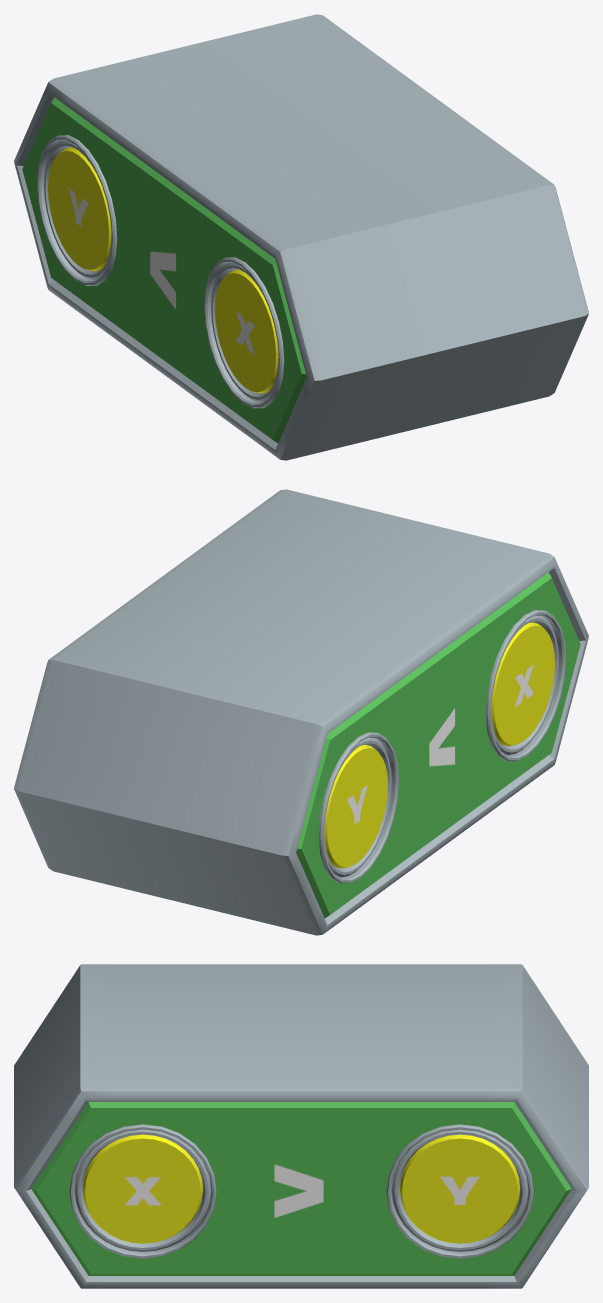
Rendered from ConditionalGreater_IN_CONTROL.fbx.
3 renders of one model, top to bottom at view 1: azimuth 30°, elevation 25°; view 2: azimuth 150°, elevation 25°; view 3: azimuth 270°, elevation 25°, orthographic. The views are drawn at different scales.
Visible parts, largest first — view 1: Conditional_Greater_IN_CONTROL; view 2: Conditional_Greater_IN_CONTROL; view 3: Conditional_Greater_IN_CONTROL.
Boxes of the visible parts, <box> form: Conditional_Greater_IN_CONTROL: <box>14,14,588,460</box>; Conditional_Greater_IN_CONTROL: <box>14,489,588,935</box>; Conditional_Greater_IN_CONTROL: <box>14,964,588,1288</box>.
Bounding box in the file's own units: 103 × 72.4 × 188.
1 material, 1 textured.
